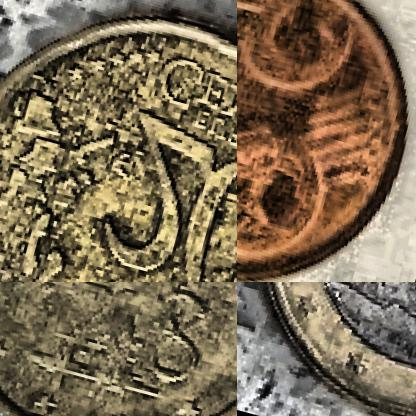coin: (0, 0, 236, 281), (237, 0, 415, 281), (0, 282, 236, 415), (237, 282, 415, 415)
